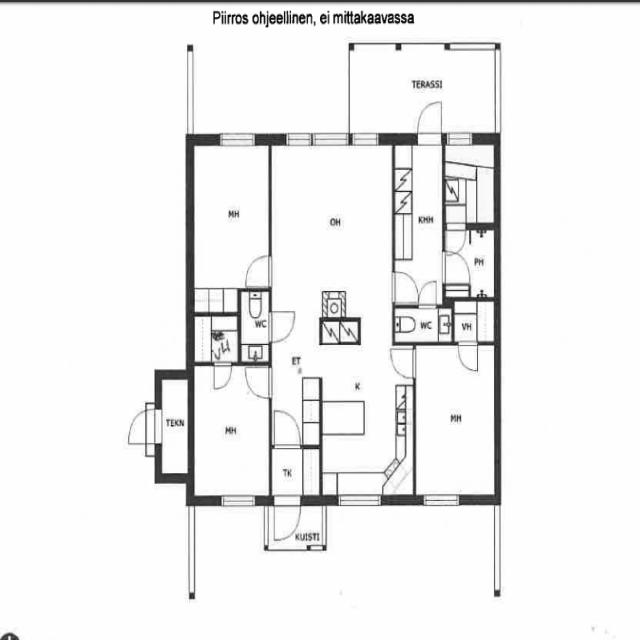door: (274, 496, 301, 542), (128, 410, 162, 444), (418, 104, 441, 146), (274, 412, 300, 449), (443, 252, 469, 283), (246, 368, 272, 398), (269, 312, 295, 342), (246, 256, 272, 286), (393, 272, 418, 303), (391, 350, 416, 379), (447, 223, 466, 255), (459, 343, 477, 370), (419, 281, 436, 308), (214, 362, 231, 388)
